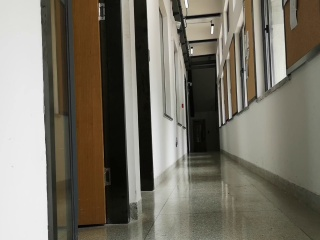room: (39, 3, 134, 228)
